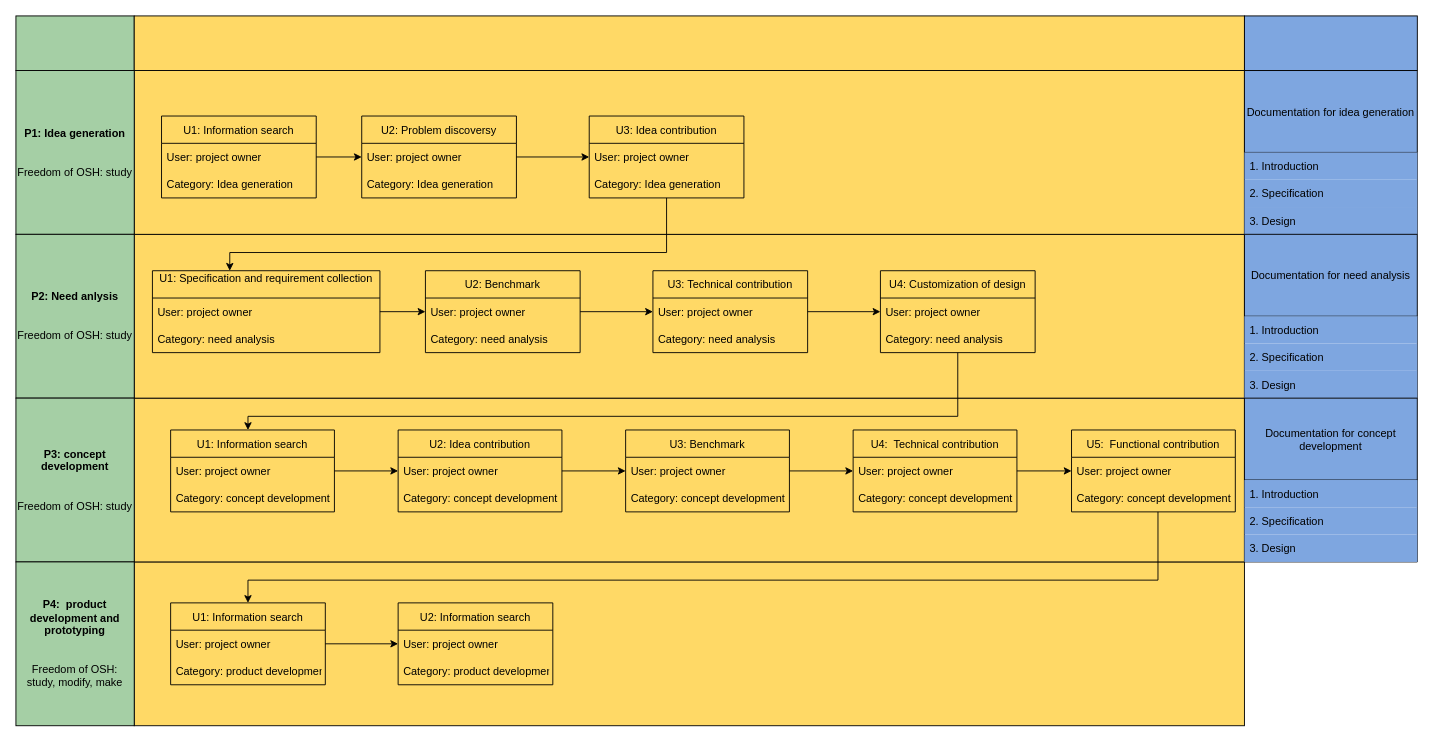
Image size: 1433x742. Some labels were removed from this diagram. The shapes that lost their labels are listed below. From the top down, each one's centre as x and y in pixels, then its label:
[74,43]: Product lifecycle phase
[688,43]: User journeys (U)
[1330,43]: Documentation building block
